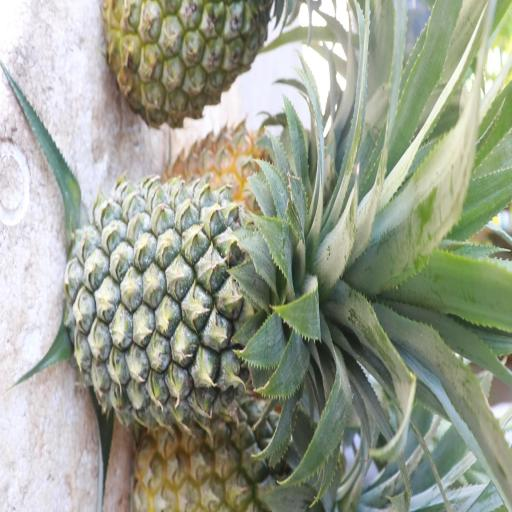------------------------------: (100, 0, 267, 125), (134, 407, 318, 512)
